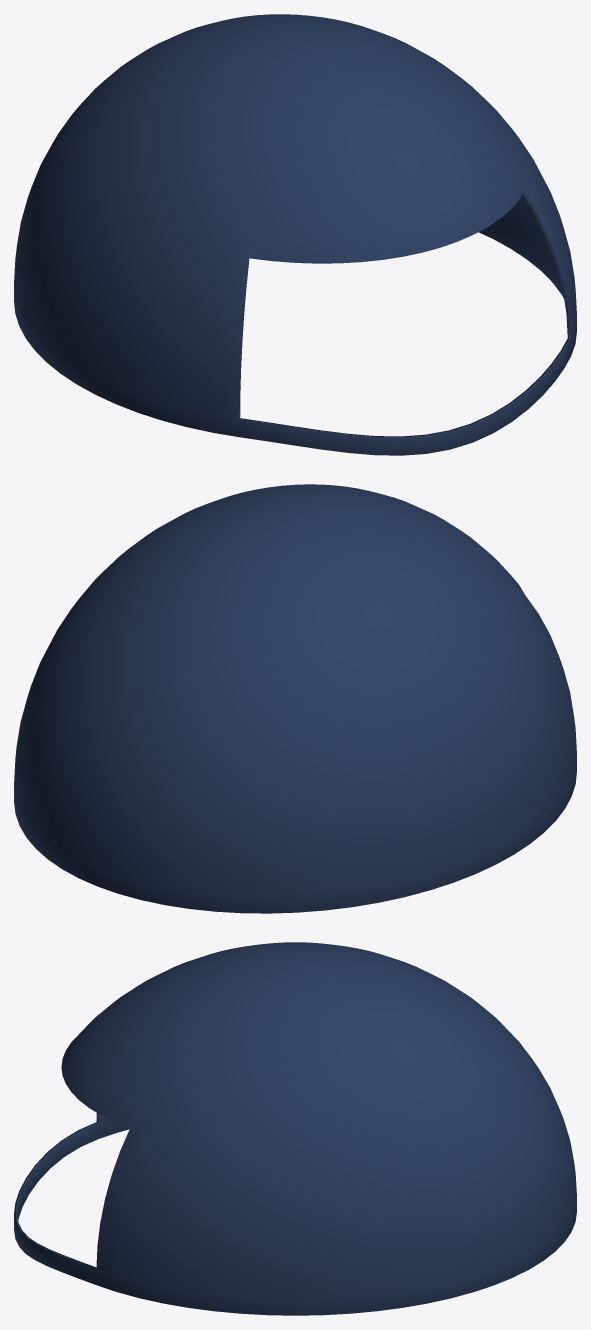
File: asset.glb
3 views of the same model, one above another, from view 1: azimuth 30°, elevation 25°; view 2: azimuth 150°, elevation 25°; view 3: azimuth 270°, elevation 25° (orthographic). The views are drawn at different scales.
Visible parts, largest first — view 1: CapShellRearOpeningBand; view 2: CapShellRearOpeningBand; view 3: CapShellRearOpeningBand.
Part boxes in pixels (box(x1,y1,x2,y2)): CapShellRearOpeningBand: box(14, 14, 576, 455); CapShellRearOpeningBand: box(14, 484, 576, 913); CapShellRearOpeningBand: box(14, 942, 576, 1315).
Bounding box in the file's own units: 0.224 × 0.133 × 0.256.
